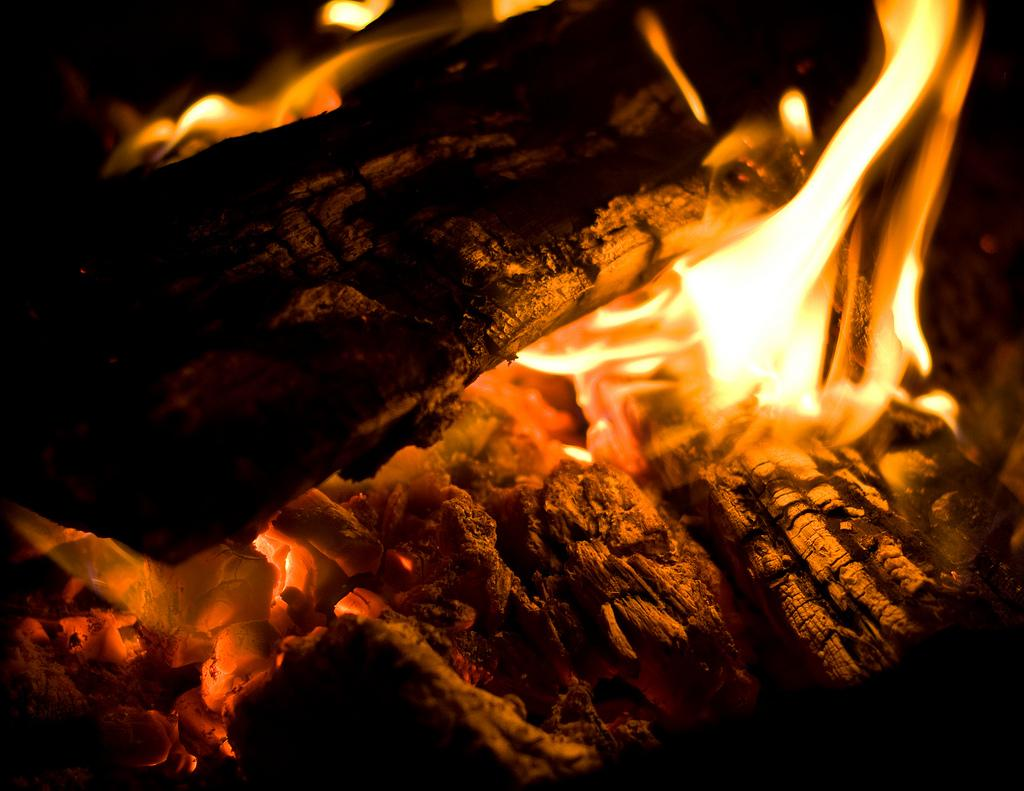fire: (688, 240, 870, 398), (812, 38, 928, 208)
